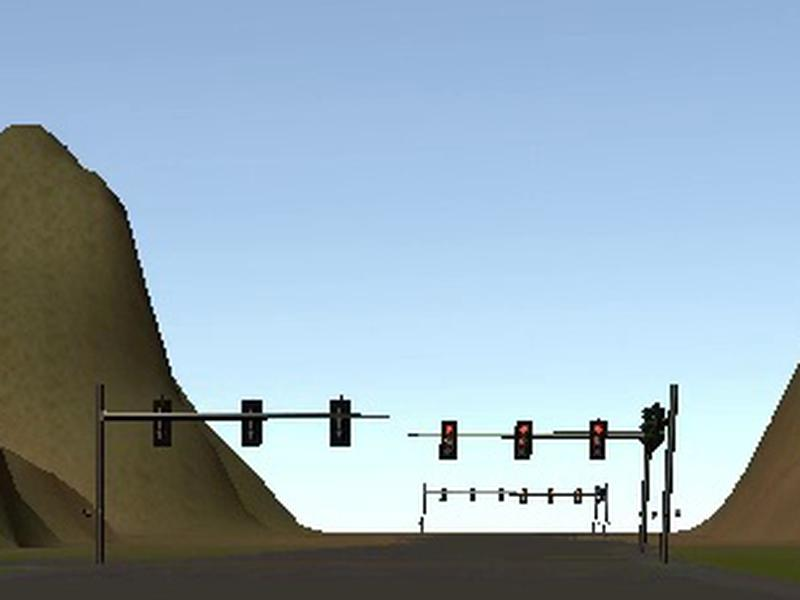Red: (588, 420, 606, 460), (515, 421, 533, 460), (440, 421, 456, 461)
